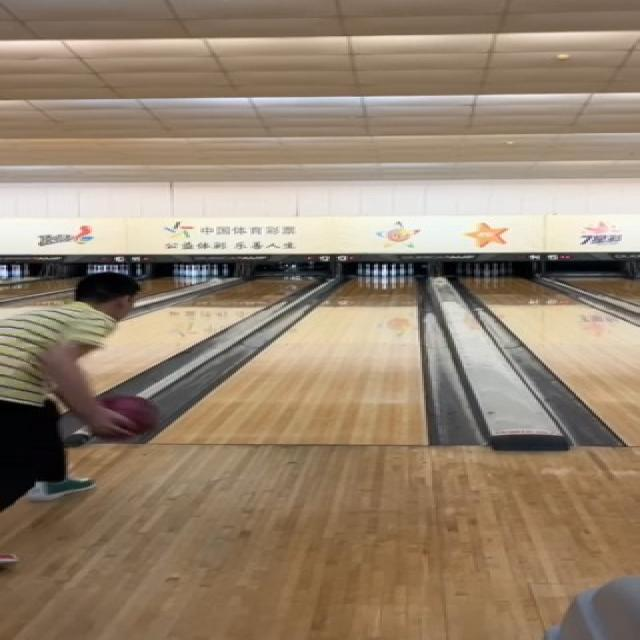alley: (151, 283, 431, 446)
balls: (80, 392, 165, 442)
bottle: (343, 258, 423, 280)
